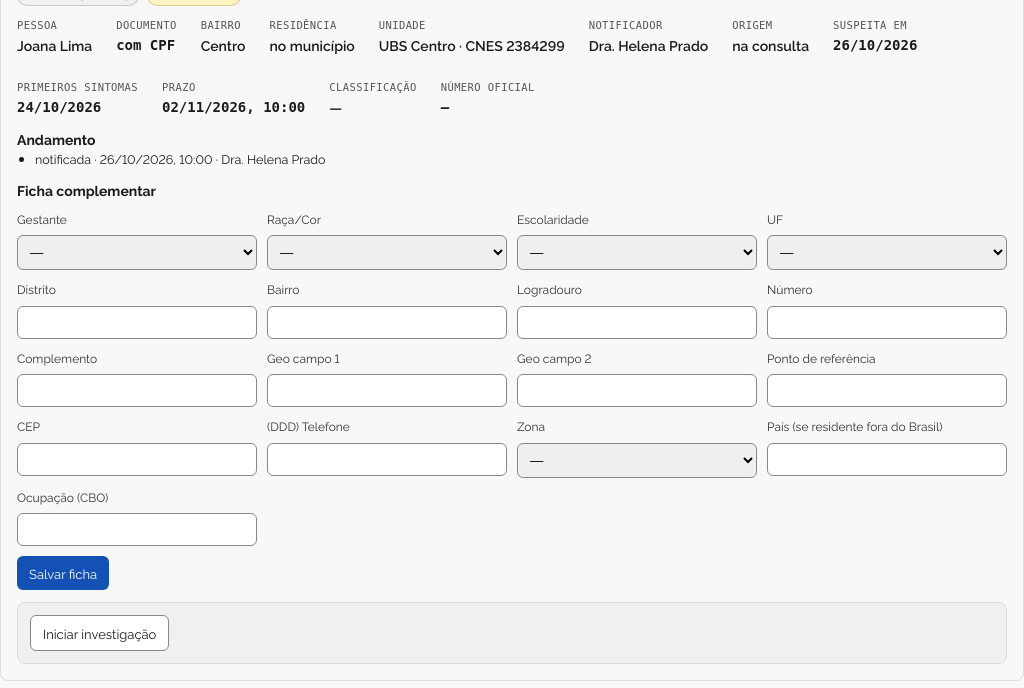
Test: NotificationDetail › depois de um andamento a fila e a contagem são invalidadas (transição)
Click the button "Iniciar investigação" at x=100, y=633, box [30, 615, 169, 651]
(page scrolled)
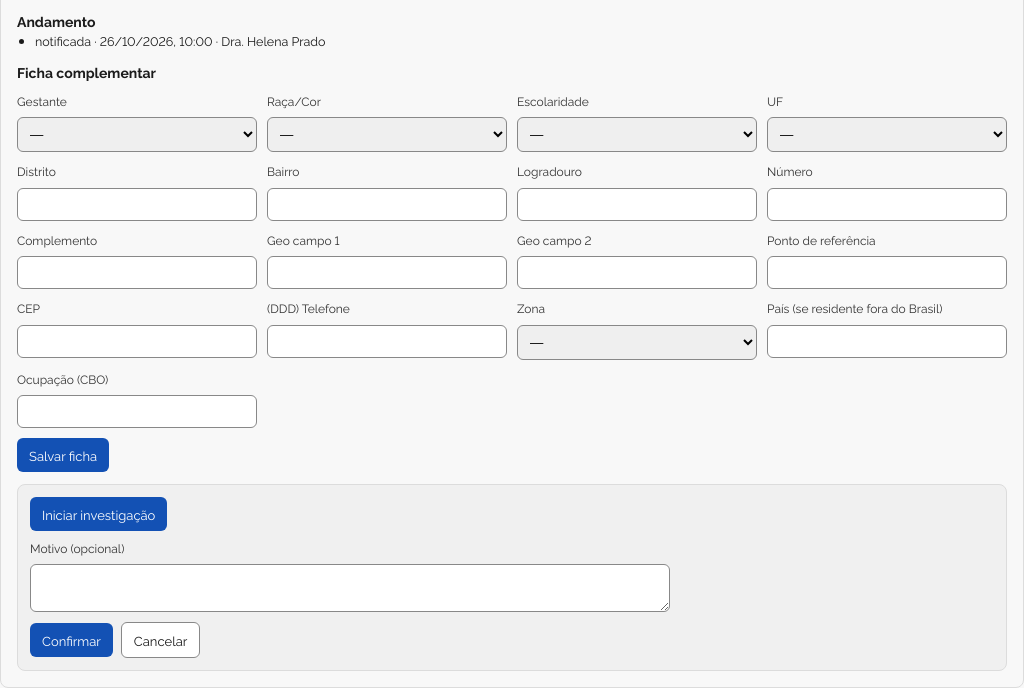
Click the button "Confirmar" at x=71, y=640, box [30, 623, 113, 657]
(page scrolled)
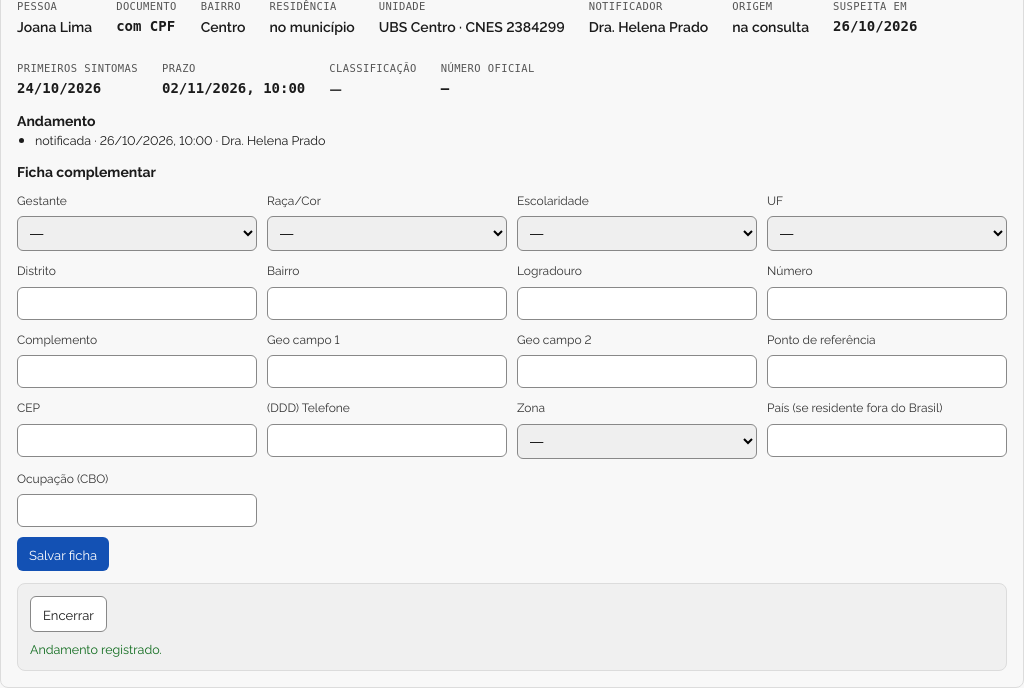
Check: the message "Andamento registrado." is shown, box [30, 640, 162, 657]
